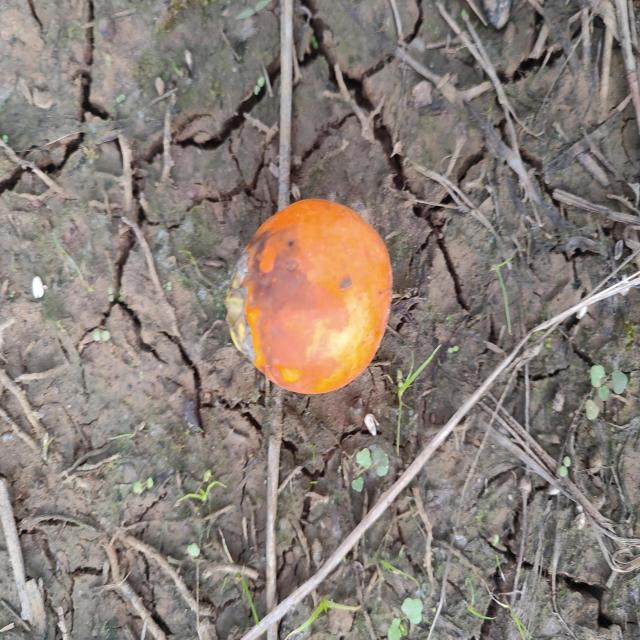good: (224, 198, 394, 398)
